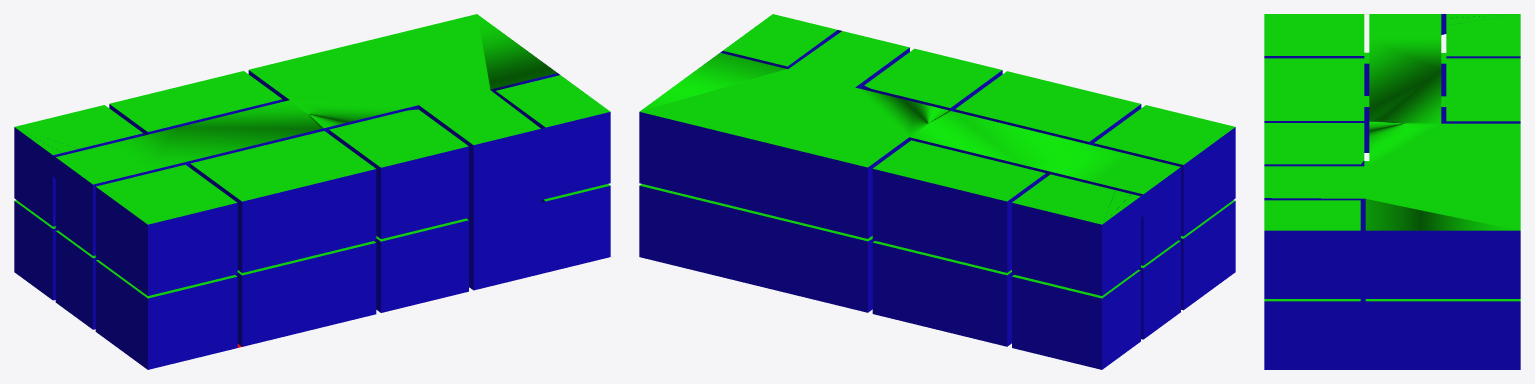
File: bolnica_quad.glb
The picture shows the model from 3 angles, left to right: view 1: azimuth 30°, elevation 25°; view 2: azimuth 150°, elevation 25°; view 3: azimuth 270°, elevation 25°; orthographic projection. The views are drawn at different scales.
Parts seen in each view (by area): view 1: Layout2; view 2: Layout2; view 3: Layout2.
Boxes of the visible parts, x1=… form: Layout2: x1=14, y1=14, x2=610, y2=369; Layout2: x1=639, y1=14, x2=1235, y2=369; Layout2: x1=1264, y1=14, x2=1520, y2=369.
Size of the model in its own units: 20 by 6 by 10.
